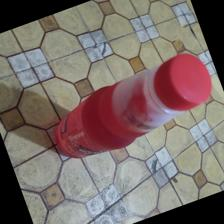Sting: (54, 53, 213, 160)
